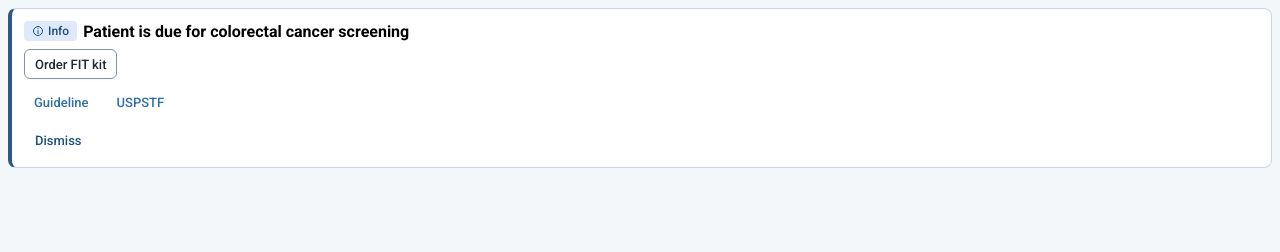
it: ClinicalDecisionSupportCard › goes back from the override form
Click the button "Dismiss": click(58, 140) [24,125,92,155]
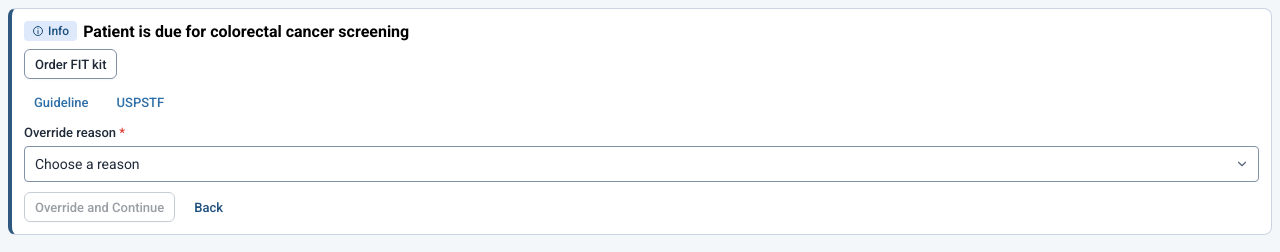
Click the button "Back": click(209, 207) [183,192,234,222]
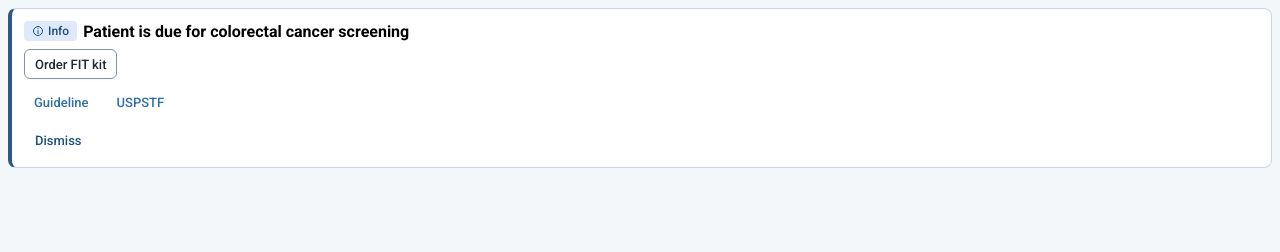
expect the button "Dismiss" is shown: met, box [24,125,92,155]
